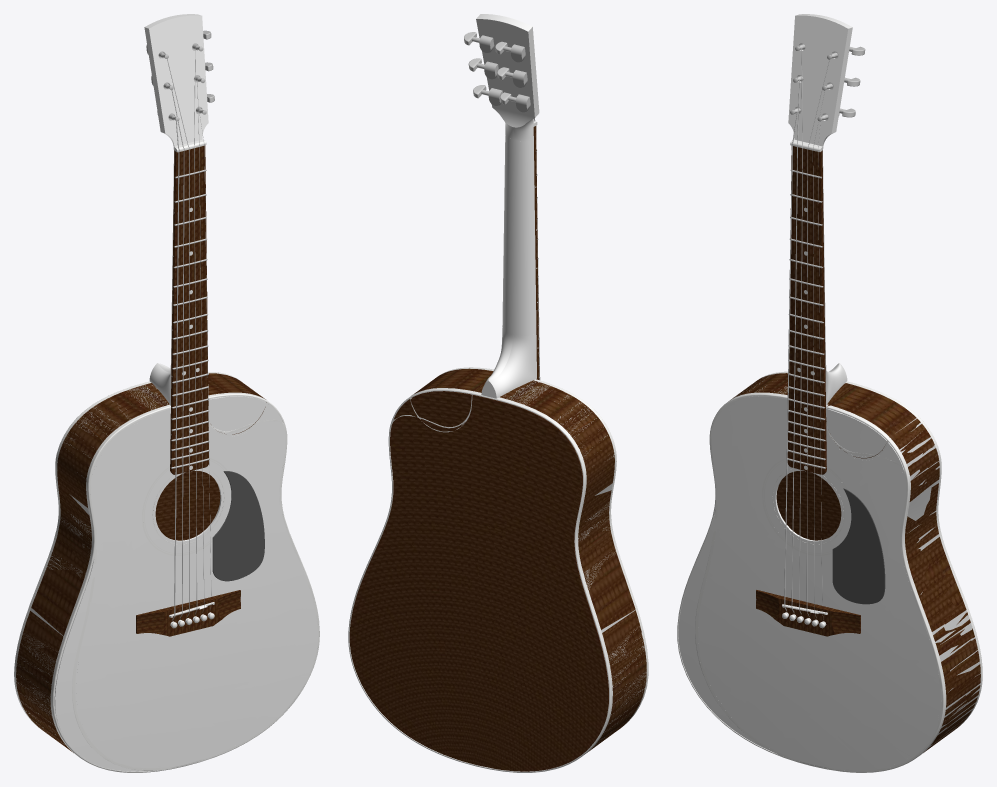
File: luth-guitar-transformed.glb
3 views of the same model, side by side, from view 1: azimuth 30°, elevation 25°; view 2: azimuth 150°, elevation 25°; view 3: azimuth 330°, elevation 25° (orthographic).
Visible parts, largest first — view 1: Body_Soundboard_Florentine_Cutaway, Body_Soundboard_Arm_Bevel, Body_Soundboard_Arm_Bevel_Cutaway_Venetian, Body_Fretboard, Body_Soundboard_Arm_Bevel_Cutaway_Florentine, Body_Sides_Arm_Bevel, Body_Headstock, Body_Soundboard_Venetian_Cutaway, Body_Sides, Body_Soundboard, Body_Pickguard, Body_Sides_Venetian_Cutaway (+19 smaller); view 2: Body_Back, Body_Back_Venetian_Cutaway, Body_Back_Florentine_Cutaway, Body_Sides_Arm_Bevel, Surface_Neck_Profile, Body_Sides, Body_Headstock, Body_Sides_Venetian_Cutaway, Body_Binding_Bottom, Body_Heel, Body_Neck, Body_Sides_Scalloped_Cutaway (1) (+5 smaller); view 3: Body_Soundboard_Florentine_Cutaway, Body_Soundboard_Arm_Bevel, Body_Soundboard_Arm_Bevel_Cutaway_Venetian, Body_Fretboard, Body_Soundboard_Arm_Bevel_Cutaway_Florentine, Body_Headstock, Body_Soundboard_Venetian_Cutaway, Body_Soundboard, Body_Pickguard, Body_Sides_Scalloped_Cutaway (1), Body_Sides_Venetian_Cutaway, Body_Sides (+21 smaller).
Part boxes in pixels (x1,y1,x2,y2): Body_Soundboard_Florentine_Cutaway: (55, 404, 318, 771); Body_Soundboard_Arm_Bevel: (75, 395, 316, 768); Body_Soundboard_Arm_Bevel_Cutaway_Venetian: (76, 410, 315, 767); Body_Fretboard: (170, 145, 208, 474); Body_Soundboard_Arm_Bevel_Cutaway_Florentine: (76, 407, 318, 760); Body_Sides_Arm_Bevel: (16, 373, 250, 746); Body_Headstock: (144, 14, 208, 162); Body_Soundboard_Venetian_Cutaway: (54, 420, 317, 771); Body_Sides: (16, 375, 262, 752); Body_Soundboard: (54, 395, 315, 771); Body_Pickguard: (212, 471, 264, 581); Body_Sides_Venetian_Cutaway: (16, 384, 162, 734); Body_Back: (349, 391, 608, 771); Body_Back_Venetian_Cutaway: (349, 395, 608, 771); Body_Back_Florentine_Cutaway: (349, 399, 608, 771); Body_Sides_Arm_Bevel: (423, 369, 646, 750); Surface_Neck_Profile: (502, 135, 536, 335); Body_Sides: (436, 368, 646, 751); Body_Headstock: (476, 14, 539, 141); Body_Sides_Venetian_Cutaway: (474, 383, 646, 736); Body_Binding_Bottom: (348, 388, 612, 772); Body_Heel: (481, 327, 536, 398); Body_Neck: (502, 139, 535, 335); Body_Sides_Scalloped_Cutaway (1): (413, 374, 630, 739); Body_Soundboard_Florentine_Cutaway: (678, 396, 941, 770); Body_Soundboard_Arm_Bevel: (698, 396, 941, 770); Body_Soundboard_Arm_Bevel_Cutaway_Venetian: (699, 398, 939, 769); Body_Fretboard: (787, 146, 826, 474); Body_Soundboard_Arm_Bevel_Cutaway_Florentine: (700, 396, 941, 769); Body_Headstock: (788, 14, 852, 162); Body_Soundboard_Venetian_Cutaway: (678, 420, 940, 770); Body_Soundboard: (678, 396, 940, 768); Body_Pickguard: (832, 488, 885, 604); Body_Sides_Scalloped_Cutaway (1): (734, 379, 980, 750); Body_Sides_Venetian_Cutaway: (742, 373, 980, 748); Body_Sides: (732, 375, 980, 751).
Bounding box in the file's own units: 0.3917 × 1.04 × 0.1269.
112 materials, 16 textured.
